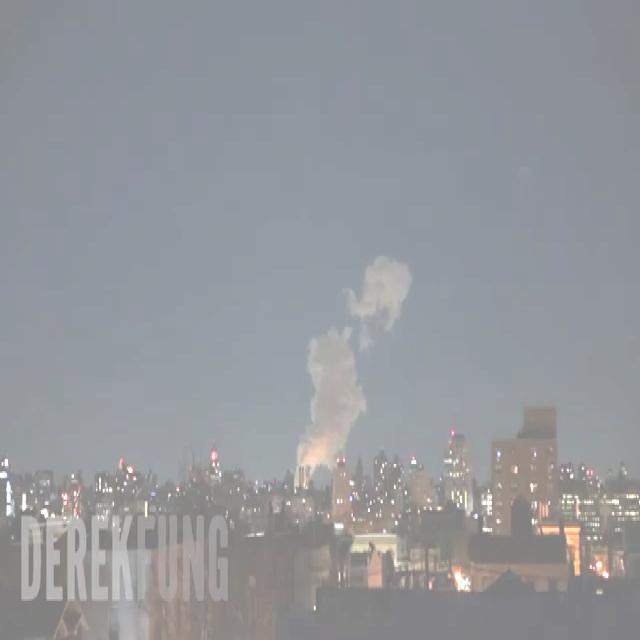smoke: (295, 258, 407, 477)
